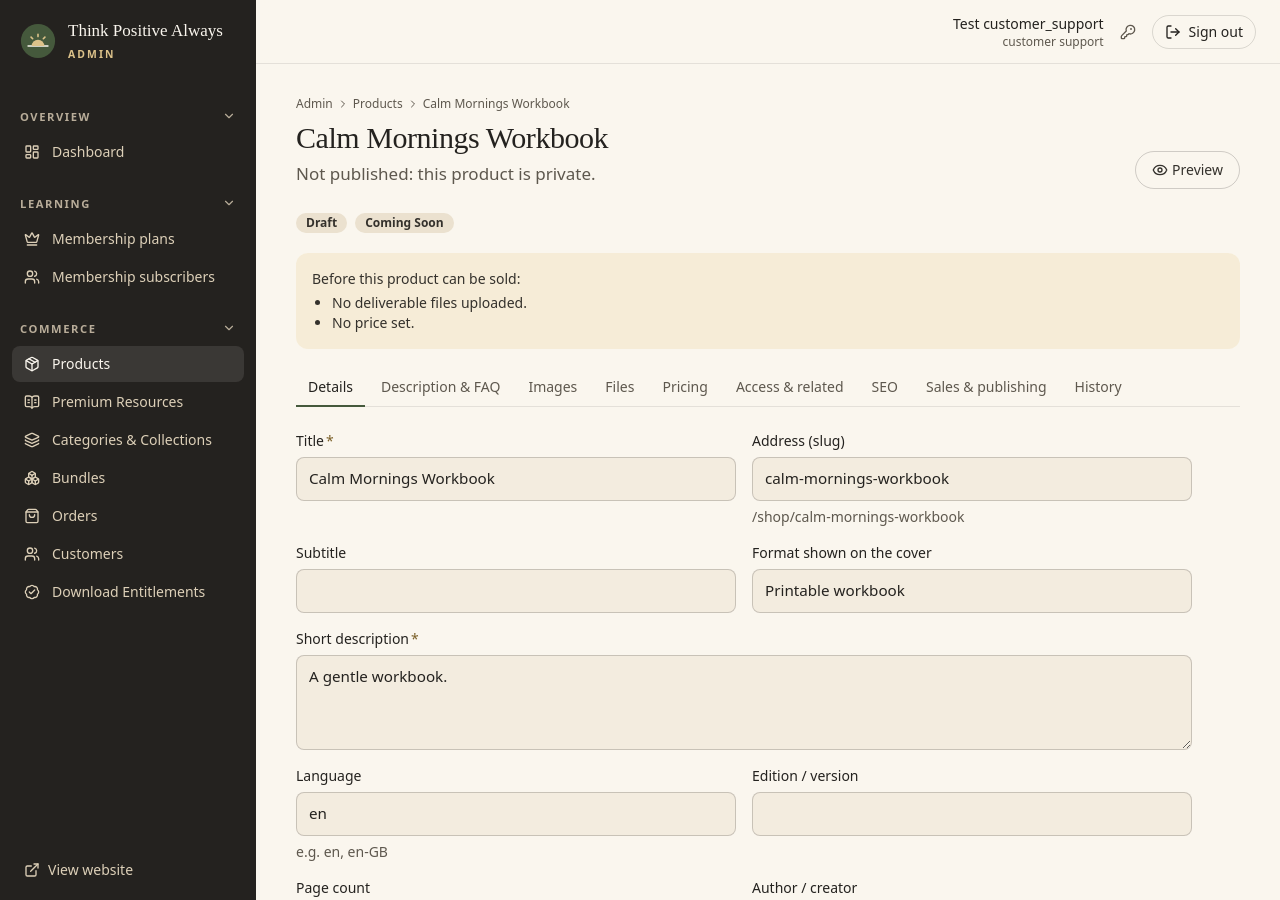
Test: product management › shows prices read-only without the price permission
Click the tab "Pricing" at point(685, 388), box [650, 369, 720, 407]
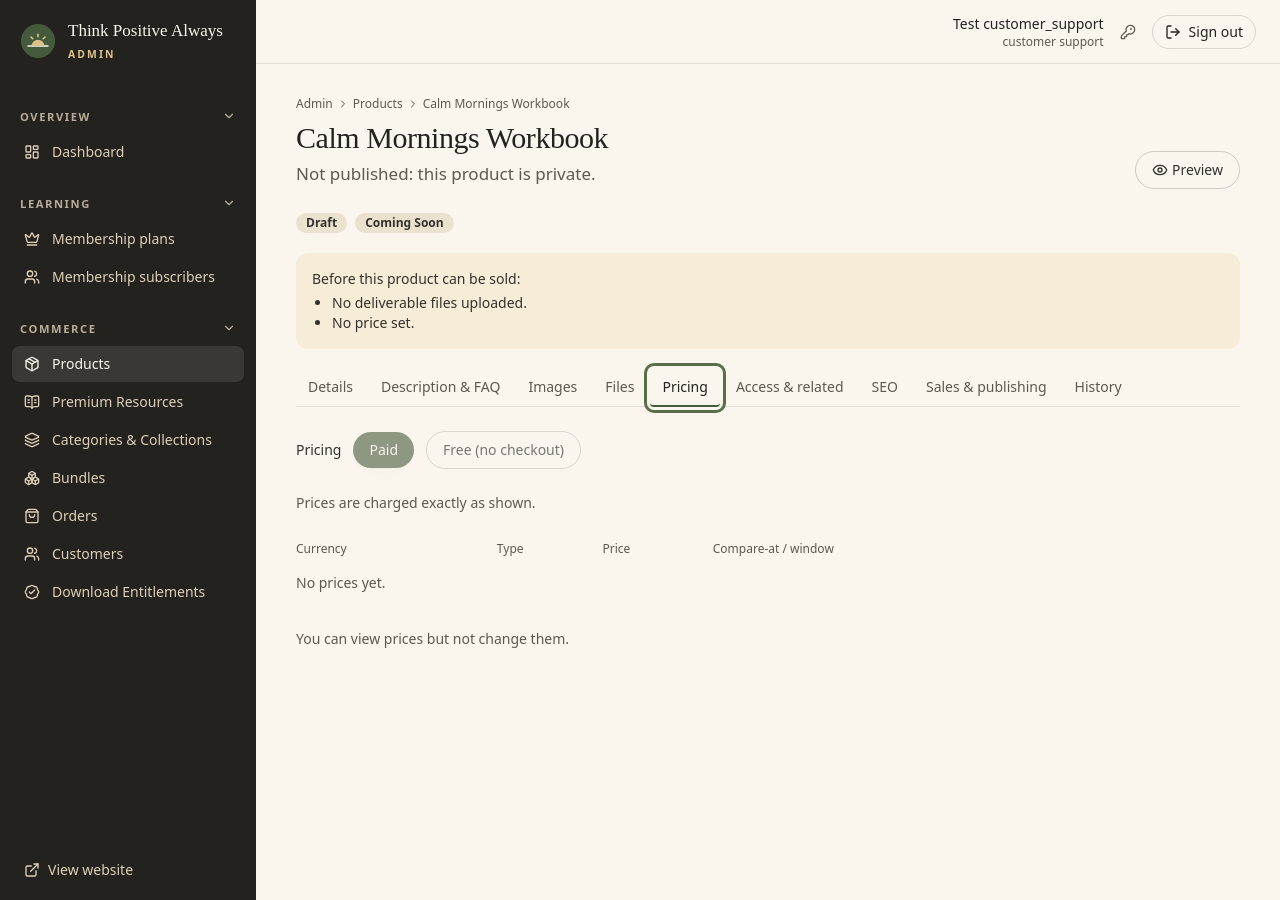
Check: the text "You can view prices but not change them." is shown, box [296, 629, 569, 648]
